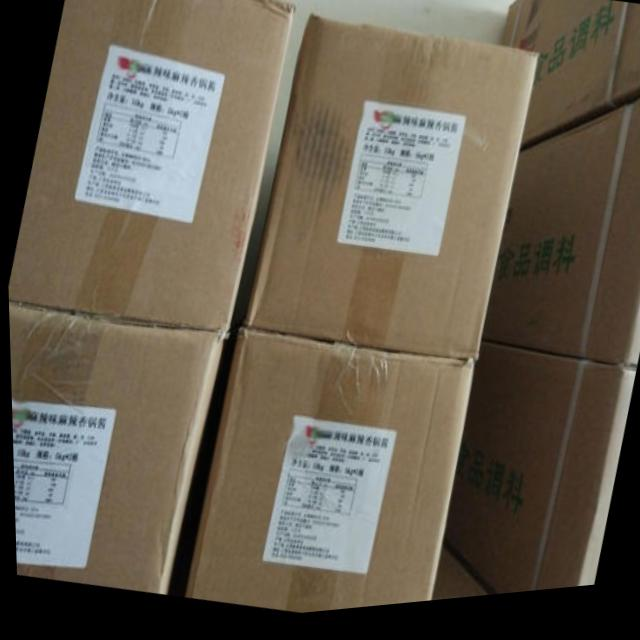box: (240, 18, 539, 372), (7, 0, 296, 339), (181, 333, 472, 619), (7, 301, 226, 598), (437, 350, 634, 604), (480, 107, 640, 379), (499, 0, 640, 161)
